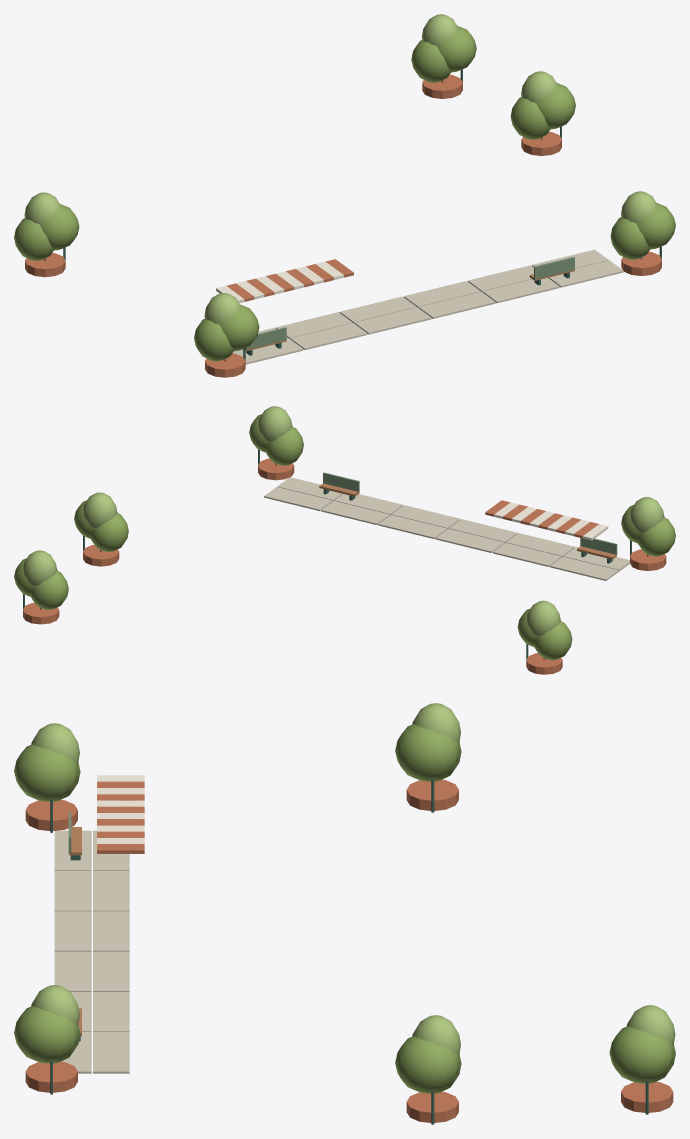
The model's file is campus-site.glb.
3 views of the same model, one above another, from view 1: azimuth 30°, elevation 25°; view 2: azimuth 150°, elevation 25°; view 3: azimuth 270°, elevation 25° (orthographic). The views are drawn at different scales.
Parts seen in each view (by area): view 1: Shell_leaf_site, Shell_stone_site, Shell_clay_site, Shell_leaf2_site, Shell_ivory_site, Shell_sage_site; view 2: Shell_stone_site, Shell_leaf_site, Shell_leaf2_site, Shell_clay_site, Shell_ivory_site, Shell_sage_site, Shell_wood_site; view 3: Shell_stone_site, Shell_leaf_site, Shell_clay_site, Shell_leaf2_site, Shell_ivory_site, Shell_deep_site.
Part boxes in pixels (x1,y1,x2,y2): Shell_leaf_site: (14, 26, 675, 361); Shell_stone_site: (233, 249, 623, 364); Shell_clay_site: (25, 74, 661, 377); Shell_leaf2_site: (24, 14, 657, 324); Shell_ivory_site: (216, 261, 343, 303); Shell_sage_site: (245, 257, 574, 349); Shell_stone_site: (264, 477, 629, 580); Shell_leaf_site: (14, 414, 675, 660); Shell_leaf2_site: (23, 406, 664, 636); Shell_clay_site: (23, 458, 666, 674); Shell_ivory_site: (494, 502, 608, 540); Shell_sage_site: (323, 472, 617, 554); Shell_wood_site: (40, 463, 648, 660); Shell_stone_site: (54, 830, 129, 1073); Shell_leaf_site: (14, 724, 675, 1093); Shell_clay_site: (25, 779, 673, 1122); Shell_leaf2_site: (31, 703, 675, 1055); Shell_ivory_site: (97, 775, 144, 844); Shell_deep_site: (50, 779, 648, 1124).
Size of the model in its own units: 34.56 by 4.51 by 27.79.
